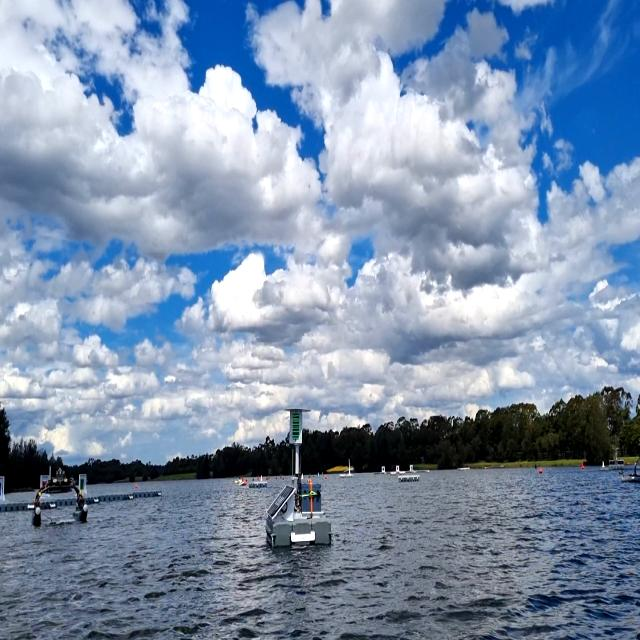led: (291, 412, 301, 442)
